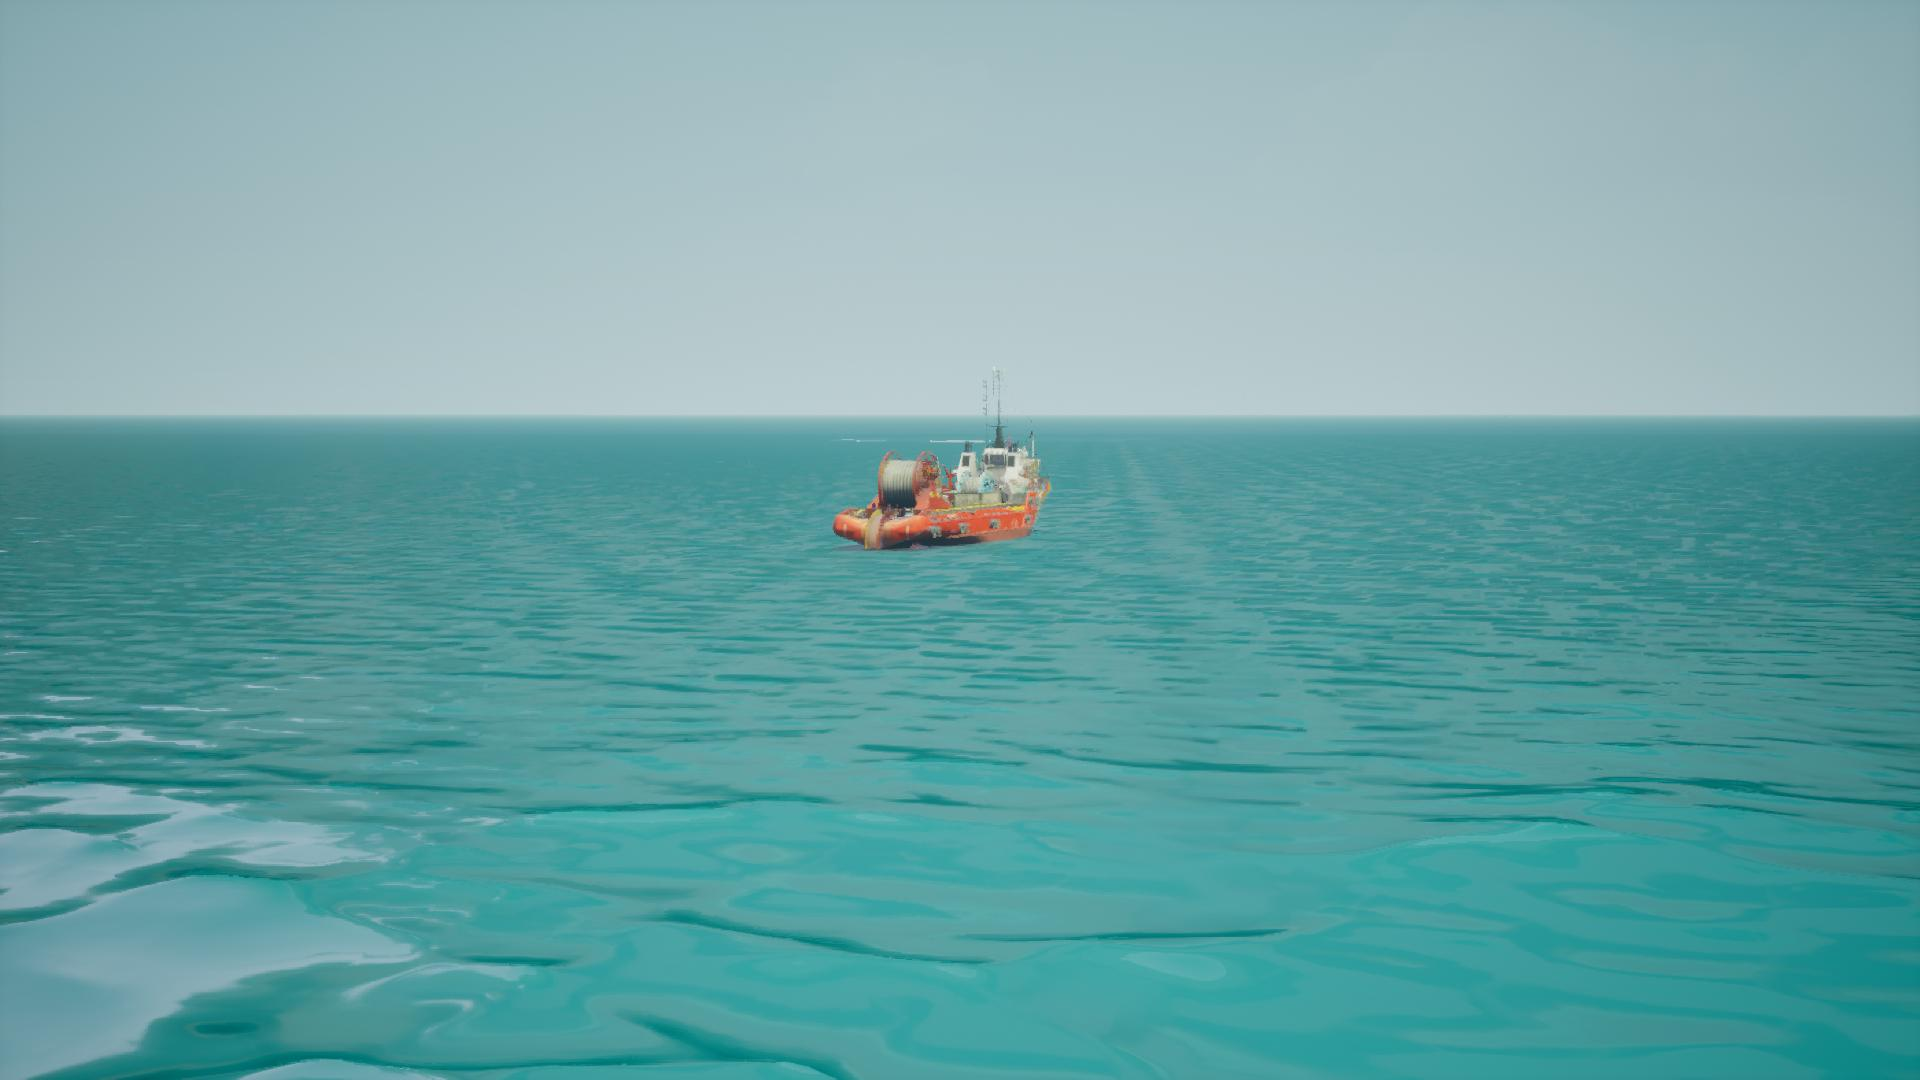Tug Boat: (848, 369, 1050, 553)
